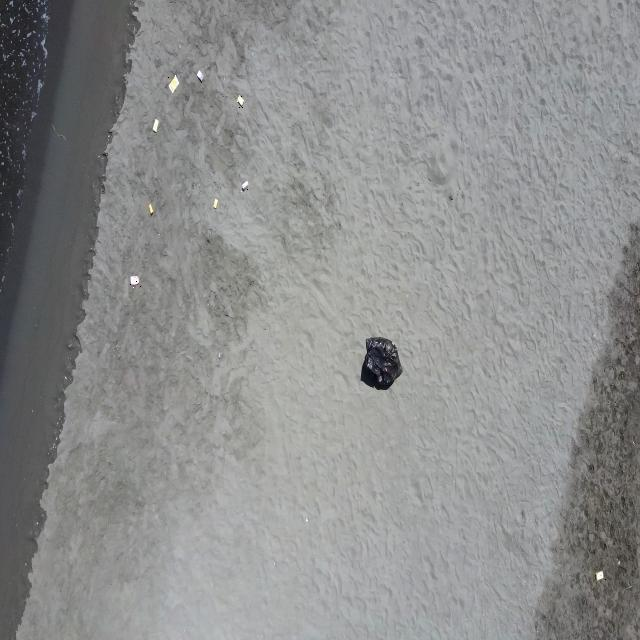retort-pouch: (168, 75, 180, 92), (130, 275, 141, 288), (151, 118, 160, 132), (595, 570, 606, 581), (212, 195, 219, 212), (237, 95, 246, 108), (147, 202, 154, 218), (241, 180, 250, 192), (196, 70, 204, 83)
